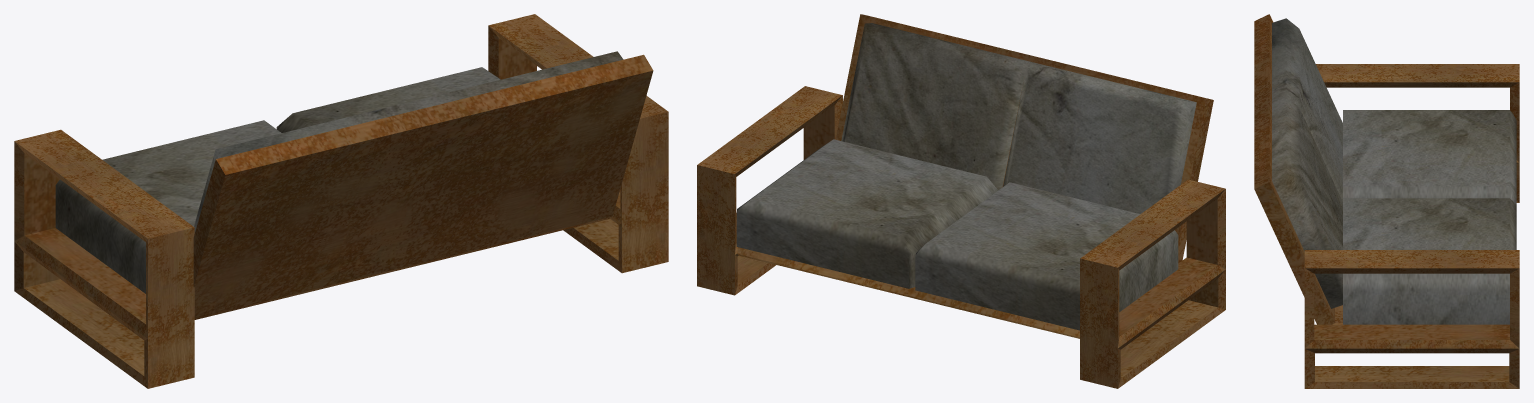
Rendered from Sofa.fbx.
3 renders of one model, left to right at view 1: azimuth 30°, elevation 25°; view 2: azimuth 150°, elevation 25°; view 3: azimuth 270°, elevation 25°, orthographic. The views are drawn at different scales.
Parts seen in each view (by area): view 1: sofa:polySurface143; view 2: sofa:polySurface143; view 3: sofa:polySurface143.
Boxes of the visible parts, x1,y1,x2,y2 form: sofa:polySurface143: (14,14,668,388); sofa:polySurface143: (697,14,1225,388); sofa:polySurface143: (1254,14,1519,388).
Size of the model in its own units: 12.89 by 5.55 by 7.07.
